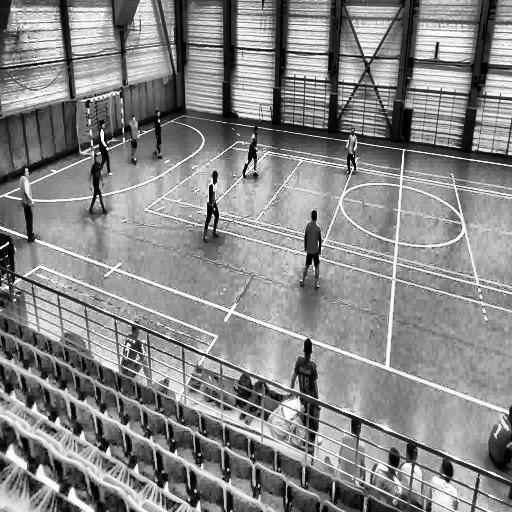player: (300, 208, 322, 290), (17, 165, 37, 243), (204, 170, 222, 243), (89, 147, 108, 215), (242, 126, 262, 180), (98, 116, 114, 179), (128, 115, 142, 167), (345, 129, 358, 176), (153, 111, 164, 161)
